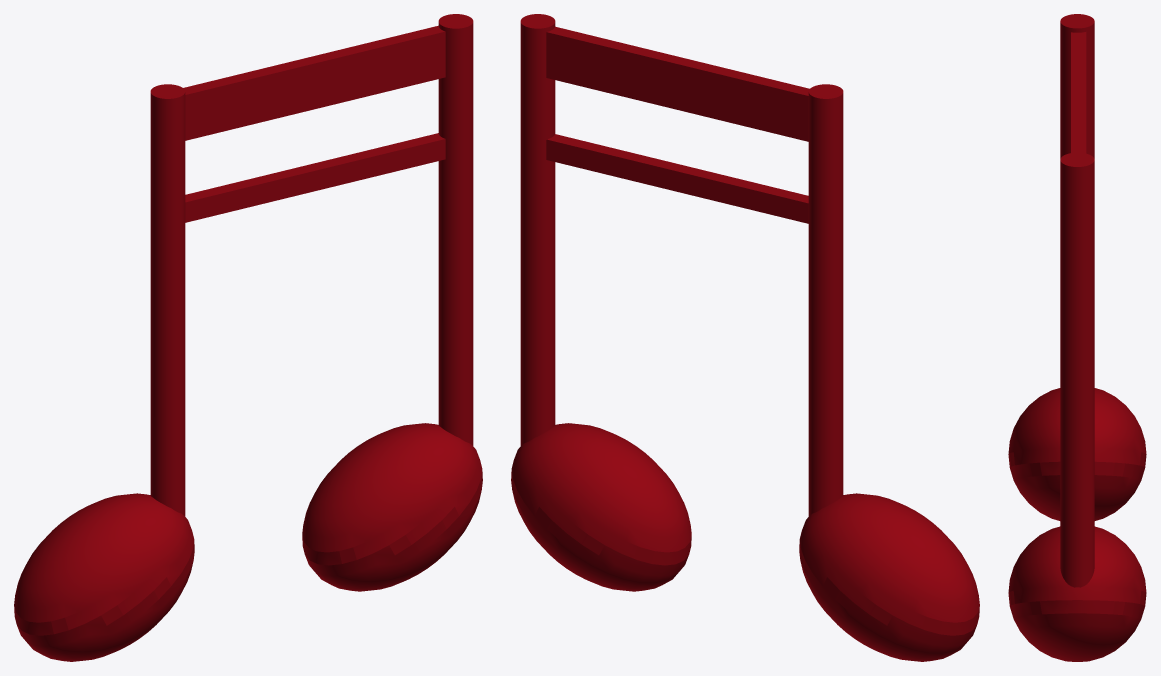
File: notamermi.fbx
3 renders of one model, left to right at view 1: azimuth 30°, elevation 25°; view 2: azimuth 150°, elevation 25°; view 3: azimuth 270°, elevation 25°, orthographic.
Visible parts, largest first — view 1: Cylinder; view 2: Cylinder; view 3: Cylinder.
Boxes of the visible parts, x1,y1,x2,y2 form: Cylinder: (14,14,482,661); Cylinder: (511,14,979,661); Cylinder: (1008,14,1146,661).
Bounding box in the file's own units: 75.03 × 85.35 × 20.
